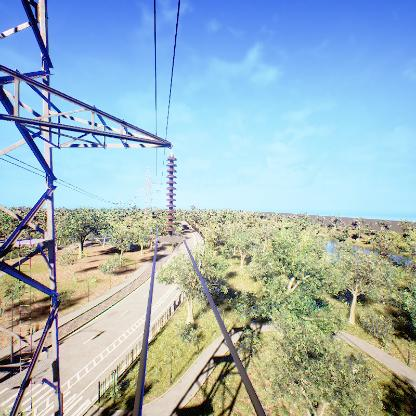insulator: (163, 155, 178, 236)
